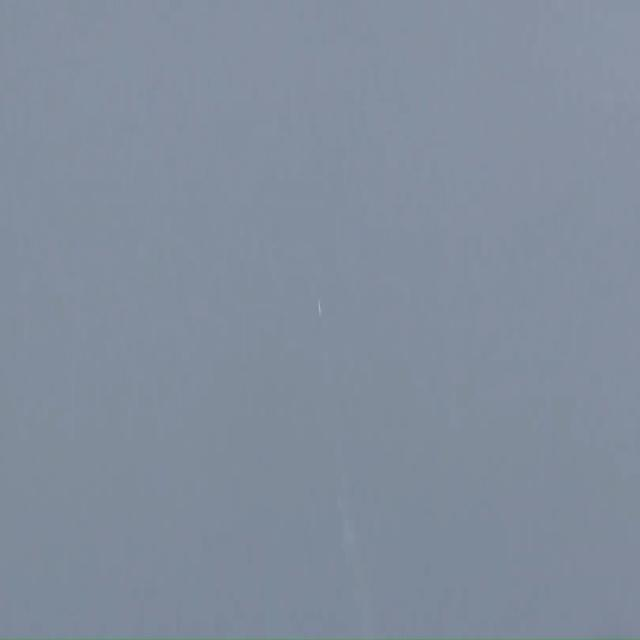Rocket: (318, 301, 321, 315)
